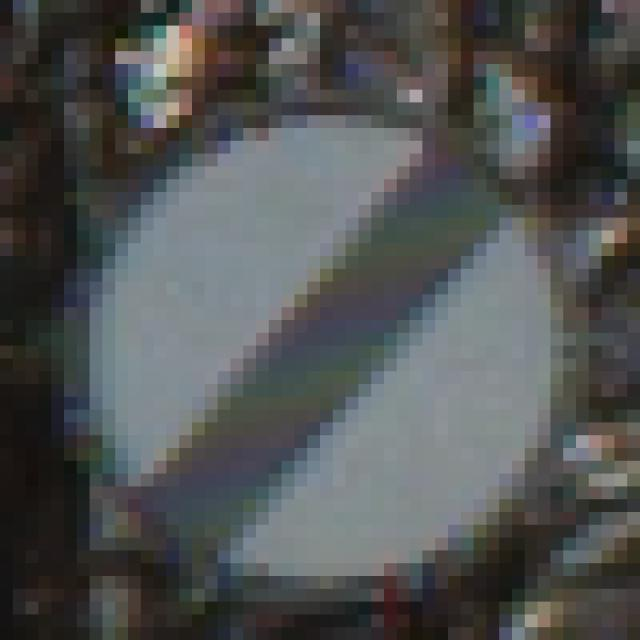restriction ends: (92, 105, 565, 564)
